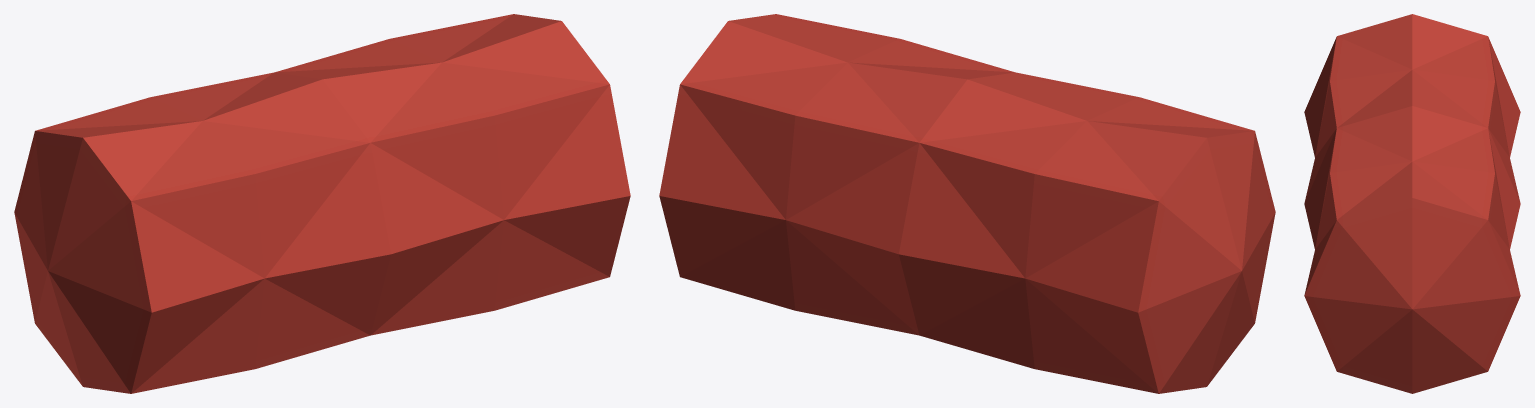
Rendered from Platform_End.fbx.
3 renders of one model, left to right at view 1: azimuth 30°, elevation 25°; view 2: azimuth 150°, elevation 25°; view 3: azimuth 270°, elevation 25°, orthographic. The views are drawn at different scales.
Parts seen in each view (by area): view 1: Platform; view 2: Platform; view 3: Platform.
Part boxes in pixels (bbox=[...]): Platform: bbox=[14, 14, 630, 393]; Platform: bbox=[659, 14, 1275, 393]; Platform: bbox=[1304, 14, 1520, 393].
Size of the model in its own units: 461 by 200 by 200.
